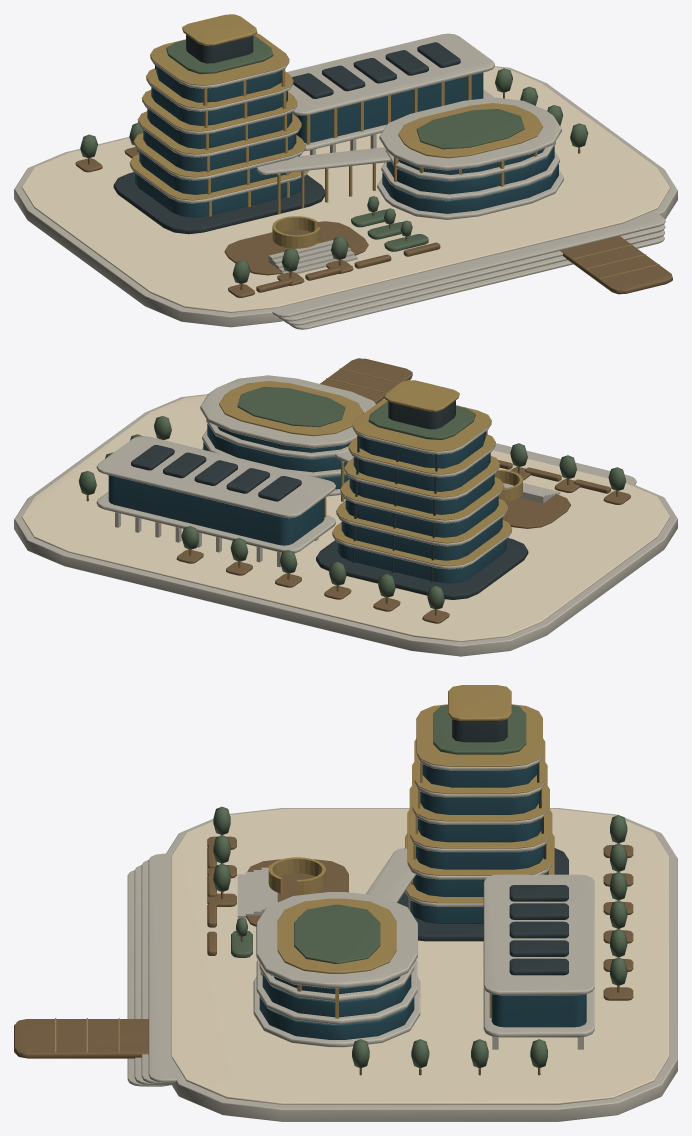
3 views of the same model, one above another, from view 1: azimuth 30°, elevation 25°; view 2: azimuth 150°, elevation 25°; view 3: azimuth 270°, elevation 25° (orthographic). The views are drawn at different scales.
Visible parts, largest first — view 1: pauli-architecture-chalk, pauli-architecture-limestone, pauli-architecture-recessed-glass, pauli-architecture-brushed-brass, pauli-architecture-garden, pauli-architecture-timber, pauli-architecture-graphite; view 2: pauli-architecture-chalk, pauli-architecture-limestone, pauli-architecture-recessed-glass, pauli-architecture-brushed-brass, pauli-architecture-graphite, pauli-architecture-garden, pauli-architecture-timber; view 3: pauli-architecture-chalk, pauli-architecture-limestone, pauli-architecture-recessed-glass, pauli-architecture-brushed-brass, pauli-architecture-garden, pauli-architecture-timber, pauli-architecture-graphite.
Part boxes in pixels (<box>): pauli-architecture-chalk: <box>21,67,670,312</box>; pauli-architecture-limestone: <box>14,33,677,329</box>; pauli-architecture-recessed-glass: <box>135,66,558,217</box>; pauli-architecture-brushed-brass: <box>129,14,659,278</box>; pauli-architecture-garden: <box>80,35,588,283</box>; pauli-architecture-timber: <box>75,92,672,297</box>; pauli-architecture-graphite: <box>113,34,460,234</box>; pauli-architecture-chalk: <box>21,395,670,642</box>; pauli-architecture-limestone: <box>14,375,677,656</box>; pauli-architecture-recessed-glass: <box>108,424,506,583</box>; pauli-architecture-brushed-brass: <box>219,368,522,566</box>; pauli-architecture-graphite: <box>131,400,528,599</box>; pauli-architecture-garden: <box>78,386,626,609</box>; pauli-architecture-timber: <box>86,358,630,623</box>; pauli-architecture-chalk: <box>171,809,668,1104</box>; pauli-architecture-limestone: <box>127,754,677,1121</box>; pauli-architecture-recessed-glass: <box>259,764,586,1039</box>; pauli-architecture-brushed-brass: <box>55,685,554,1052</box>; pauli-architecture-garden: <box>213,705,627,1068</box>; pauli-architecture-timber: <box>14,835,633,1075</box>; pauli-architecture-graphite: <box>397,719,568,975</box>.
Size of the model in its own units: 36 by 11.78 by 33.5.
